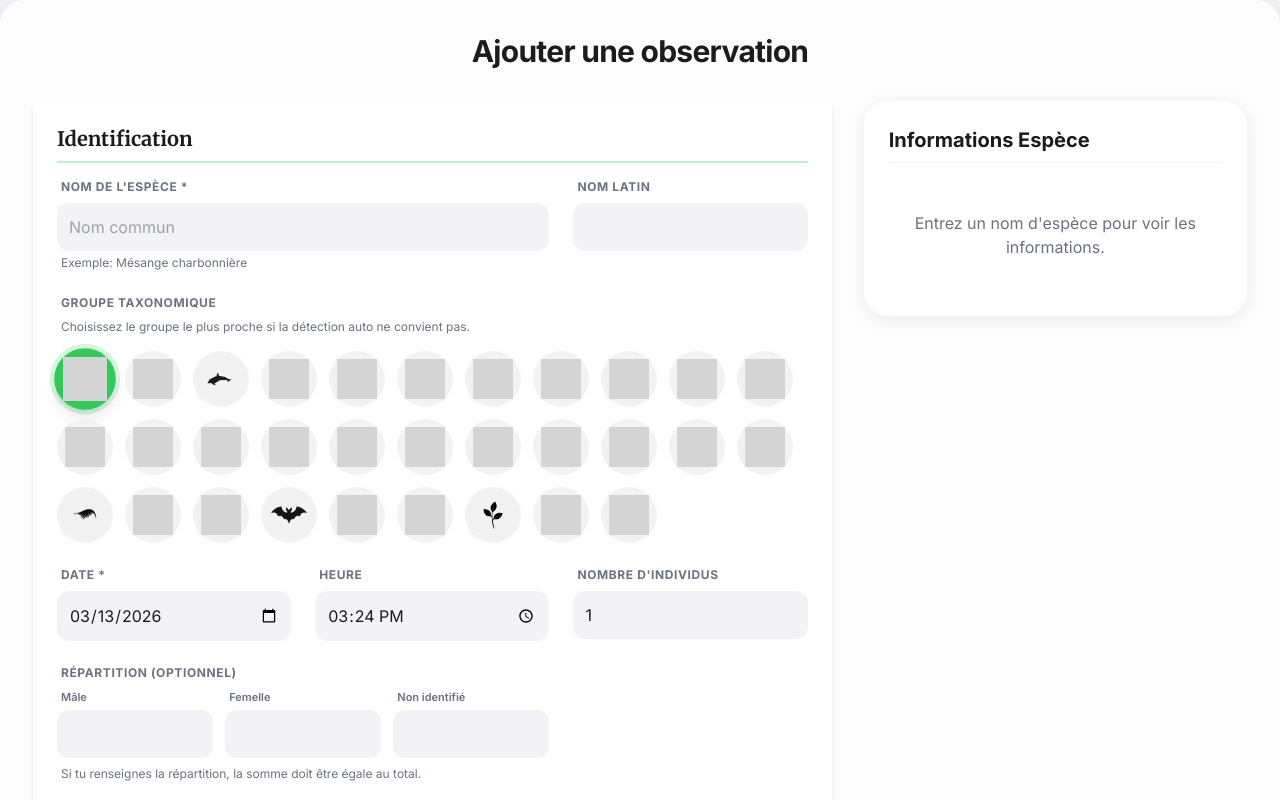
Scenario: ObservationForm species autocomplete › shows suggestions and applies selection with keyboard
In the field labelled "Nom de l'espèce *": (303, 227) x1=57 y1=203 x2=549 y2=251, type "Mes"
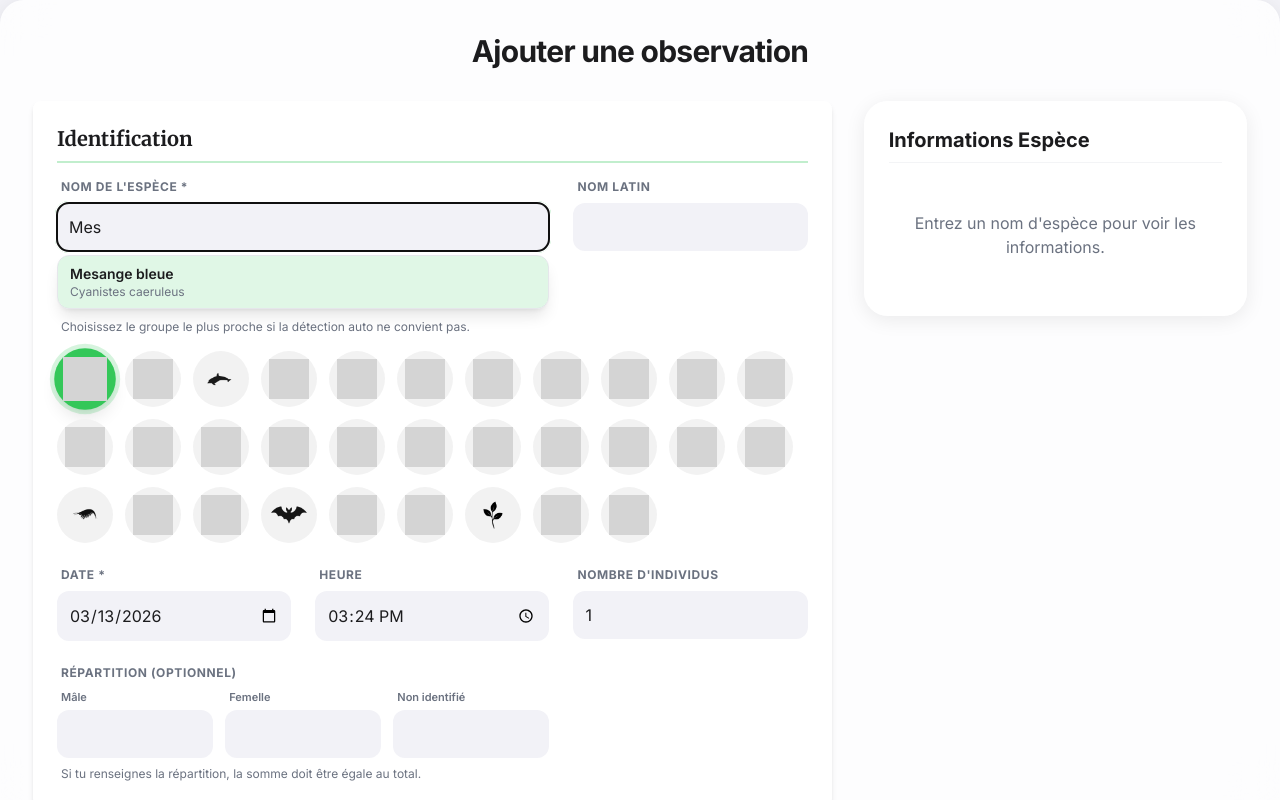
Check: the text "Mesange bleue" is shown, box x1=70 y1=265 x2=174 y2=282
Press Arrowdown Enter
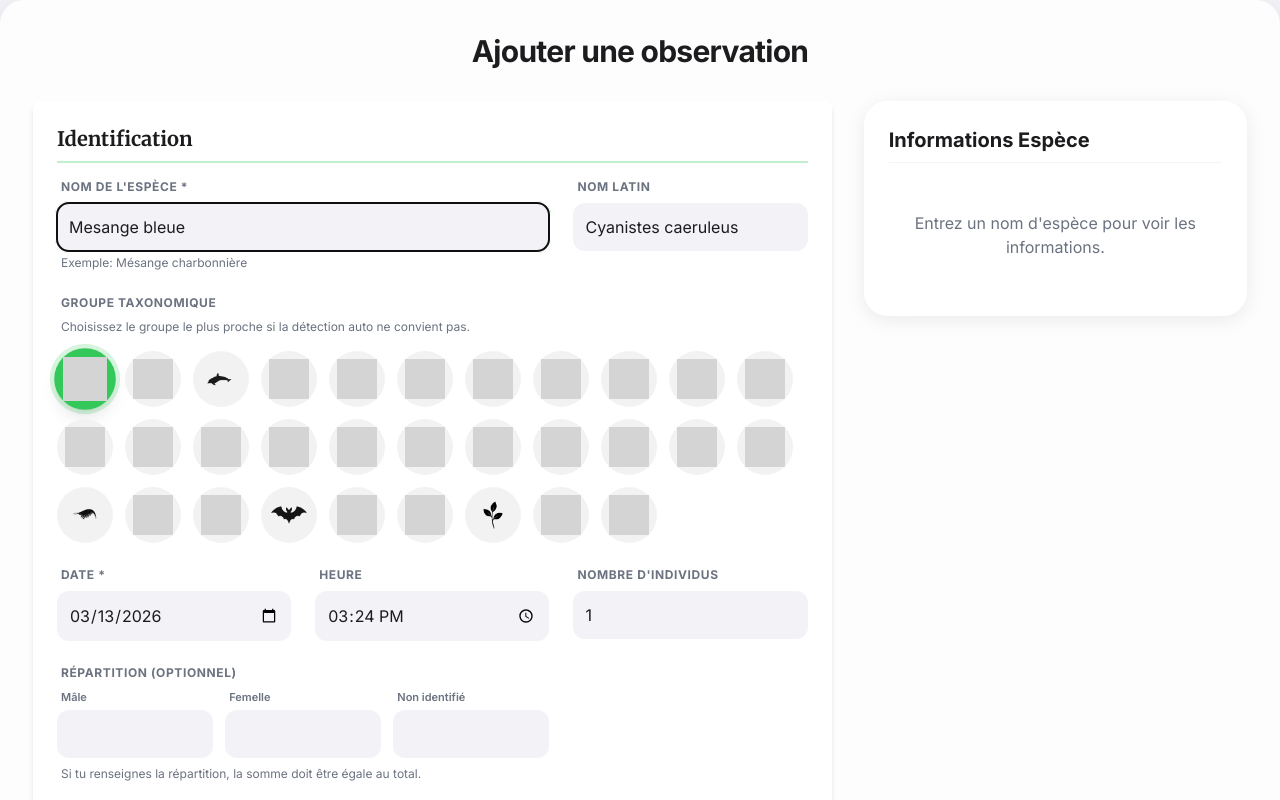
Check: the field labelled "Nom de l'espèce *" holds "Mesange bleue", box x1=57 y1=203 x2=549 y2=251
Check: the field labelled "Nom latin" holds "Cyanistes caeruleus", box x1=573 y1=203 x2=808 y2=251
